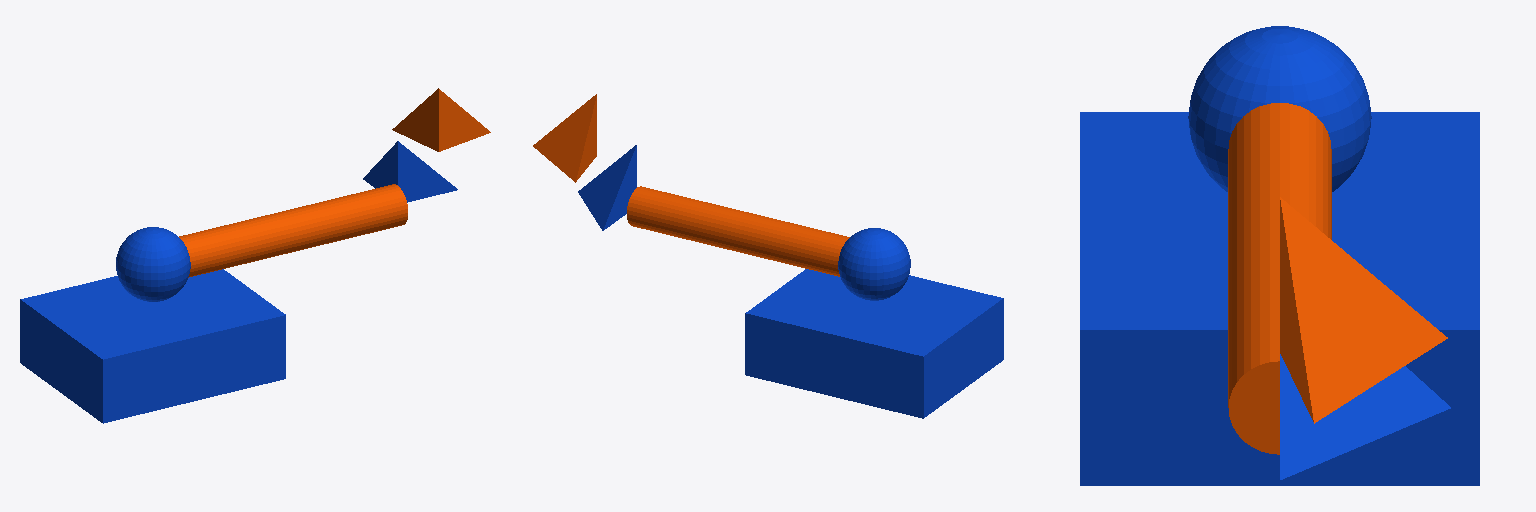
URDF robot description (TerraScope fixture):
<?xml version="1.0"?>
<robot name="TerraScope fixture">
  <material name="blue"><color rgba="0.1 0.35 0.85 1"/></material>
  <material name="orange"><color rgba="0.95 0.4 0.05 1"/></material>
  <link name="base_link">
    <visual><origin xyz="0 0 0.15"/><geometry><box size="0.9 0.7 0.3"/></geometry><material name="blue"/></visual>
  </link>
  <link name="arm_link">
    <visual><origin xyz="0.6 0 0" rpy="0 1.5707963267948966 0"/><geometry><cylinder radius="0.09" length="1.2"/></geometry><material name="orange"/></visual>
    <visual><geometry><sphere radius="0.16"/></geometry><material name="blue"/></visual>
  </link>
  <link name="carriage_link">
    <visual><geometry><mesh filename="meshes/carriage.stl" scale="0.3 0.3 0.3"/></geometry><material name="blue"/></visual>
  </link>
  <link name="tool_link">
    <visual><geometry><mesh filename="package://demo/meshes/tool.dae" scale="0.3 0.3 0.3"/></geometry><material name="orange"/></visual>
  </link>
  <joint name="shoulder" type="revolute">
    <parent link="base_link"/><child link="arm_link"/><origin xyz="0 0 0.5"/>
    <axis xyz="0 0 1"/><limit lower="-1.2" upper="1.2" effort="10" velocity="2"/>
  </joint>
  <joint name="slider" type="prismatic">
    <parent link="arm_link"/><child link="carriage_link"/><origin xyz="1.2 0 0"/>
    <axis xyz="1 0 0"/><limit lower="0" upper="0.8" effort="10" velocity="1"/>
  </joint>
  <joint name="fixed_tool" type="fixed">
    <parent link="carriage_link"/><child link="tool_link"/><origin xyz="0.2 0 0.2" rpy="0 0 0.2"/>
  </joint>
</robot>

--- Facts derived from the render (not from the file) ---
The picture shows the robot from 3 angles, left to right: view 1: azimuth 30°, elevation 25°; view 2: azimuth 150°, elevation 25°; view 3: azimuth 270°, elevation 25°; orthographic projection.
Model TerraScope fixture with 4 links and 3 joints (1 revolute, 1 prismatic, 1 fixed), rooted at base_link, posed every joint at zero.
Visible links, largest first — view 1: base_link, arm_link, tool_link, carriage_link; view 2: base_link, arm_link, tool_link, carriage_link; view 3: base_link, arm_link, tool_link, carriage_link.
Boxes of the visible links, bbox=[...] form: base_link: bbox=[20, 269, 285, 423]; arm_link: bbox=[116, 184, 407, 301]; tool_link: bbox=[392, 88, 490, 151]; carriage_link: bbox=[363, 141, 457, 202]; base_link: bbox=[745, 269, 1003, 418]; arm_link: bbox=[627, 186, 910, 300]; tool_link: bbox=[533, 94, 596, 182]; carriage_link: bbox=[578, 145, 636, 230]; base_link: bbox=[1080, 112, 1479, 485]; arm_link: bbox=[1188, 26, 1371, 454]; tool_link: bbox=[1280, 197, 1447, 423]; carriage_link: bbox=[1280, 354, 1450, 479].
Bounding box of the posed robot: 2.14 × 0.7 × 1 m (x, y, z).
Meshes: 2 distinct files referenced, 2 mesh visuals loaded (1 ASCII STL, 1 Collada DAE).
